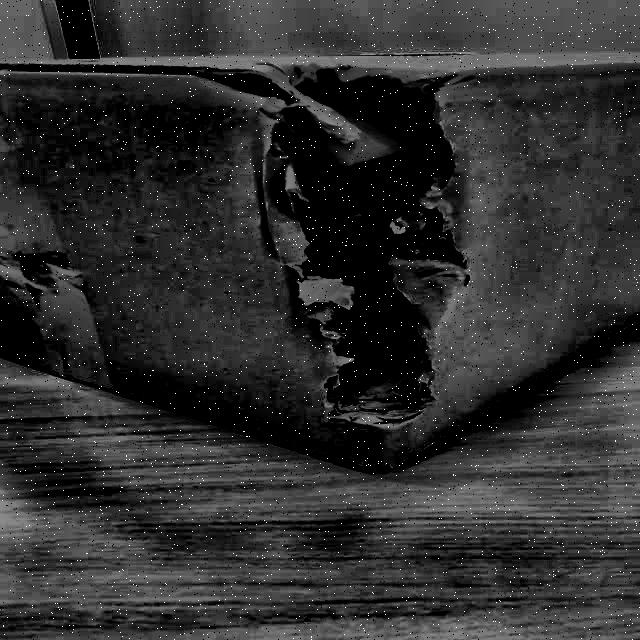box: (0, 40, 639, 490)
hole: (219, 61, 473, 435)
